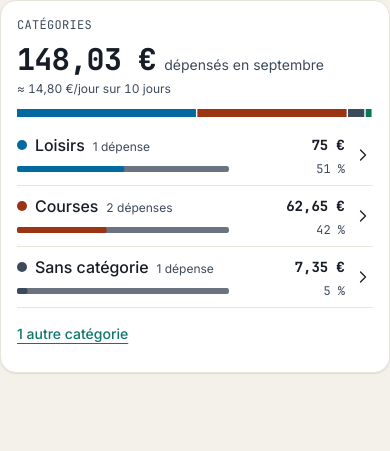
it: CategoriesCard (G-cat) › below lg, folds after three categories and opens the rest on the spot
Click the button with test id "g-cat-replier" at (73, 334), box [17,312,128,356]
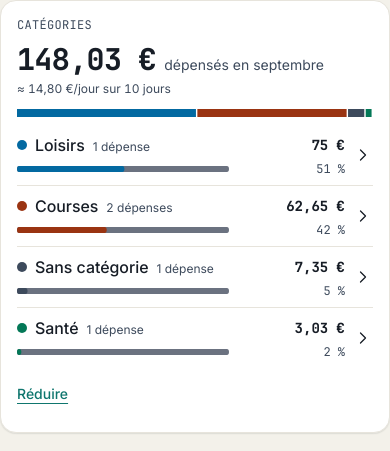
Check: the button with test id "g-cat-replier" reads "Réduire", box [17,372,68,416]
